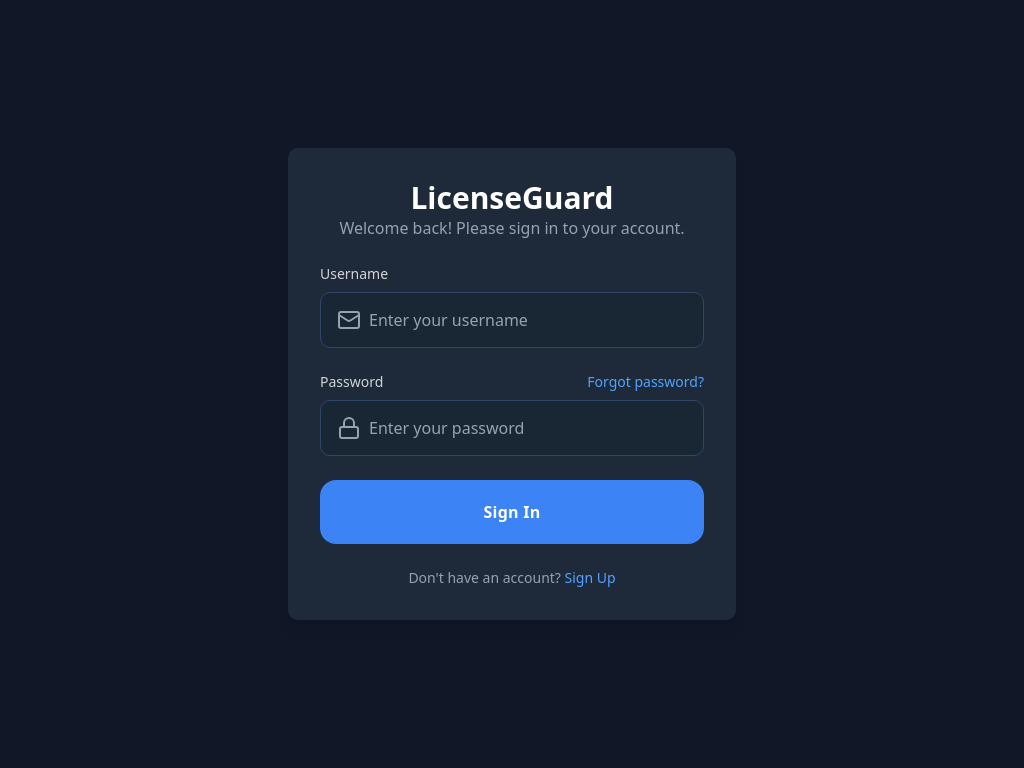
Test: Auth Flow Integration Tests › Login Flow › should successfully login, store token, and redirect to main page
Type "test@example.com" into the field with placeholder "Enter your username" at (532, 320), box [361,293,703,347]
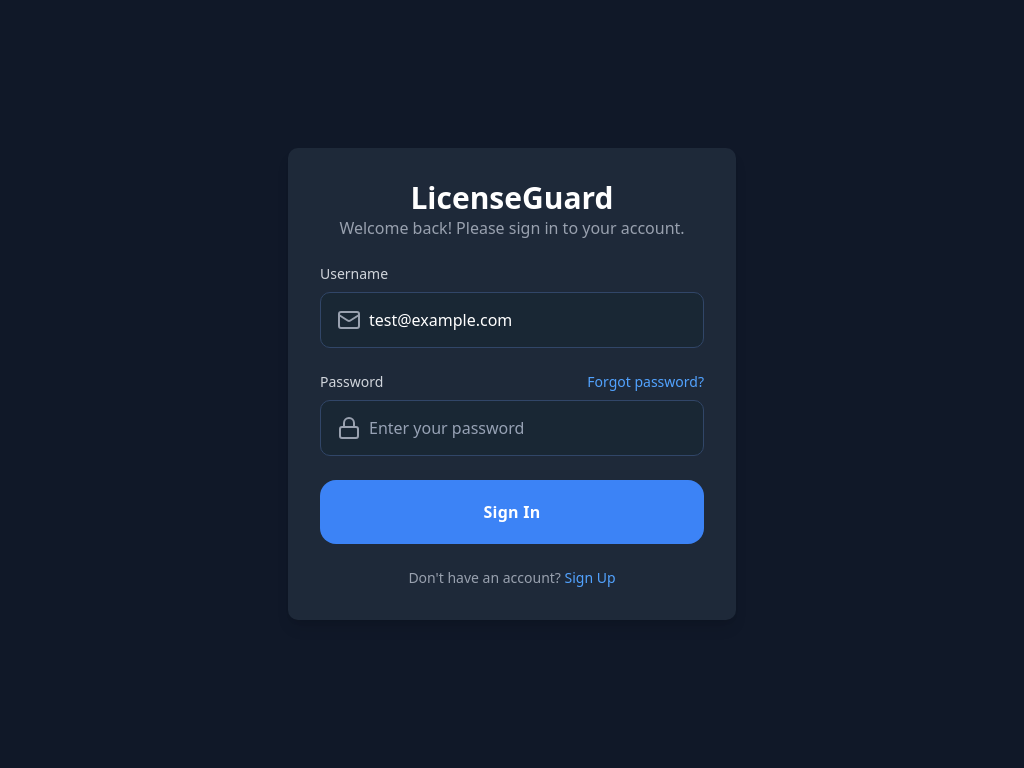
Type "Password123!" into the password field with placeholder "Enter your password" at (532, 428), box [361,401,703,455]
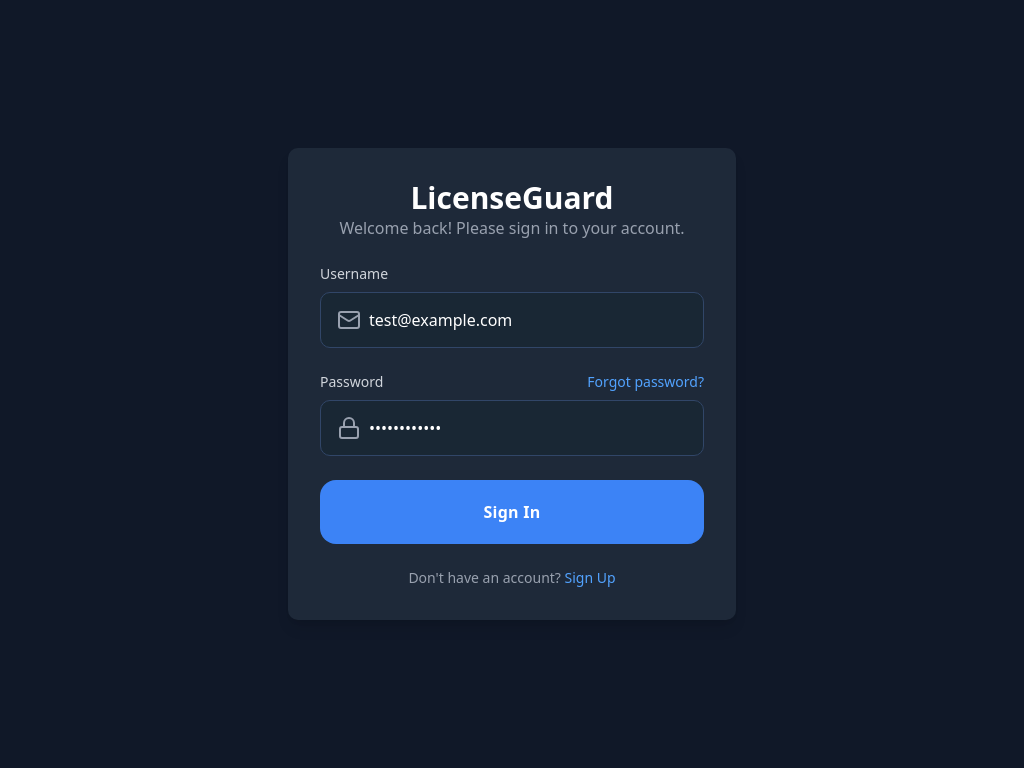
# submit the form by clicking the "Sign In" button
Click the button "Sign In" at (512, 512), box [320,480,704,544]
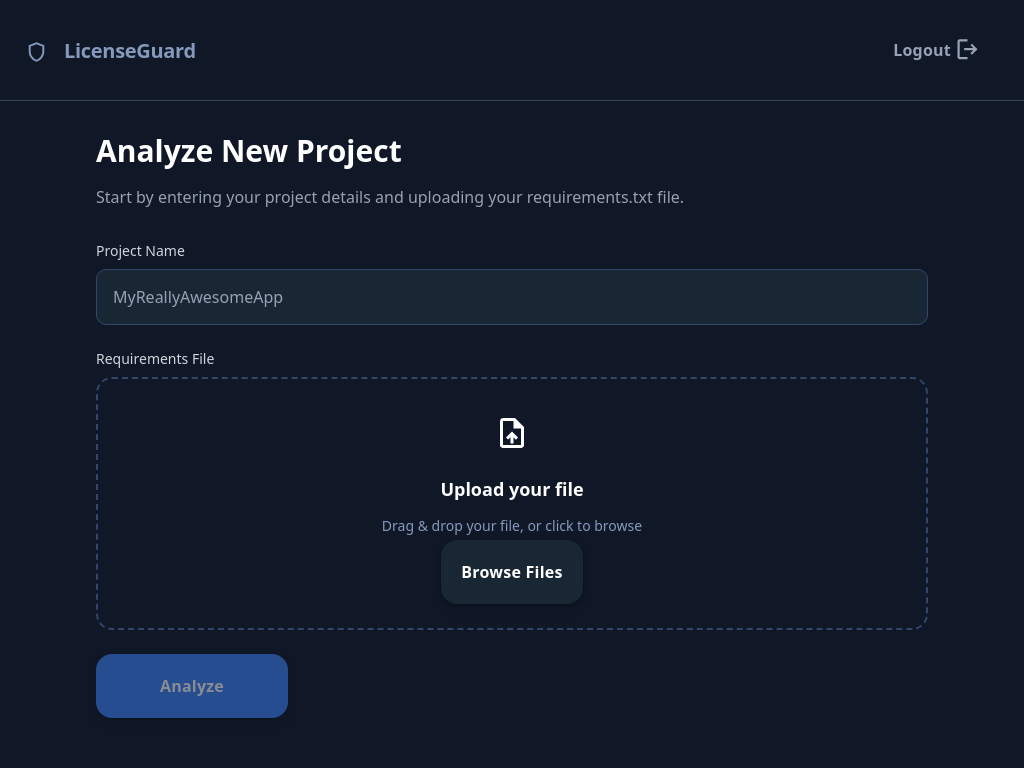
Result: the heading "Analyze New Project" is shown at [96,130,402,171]
